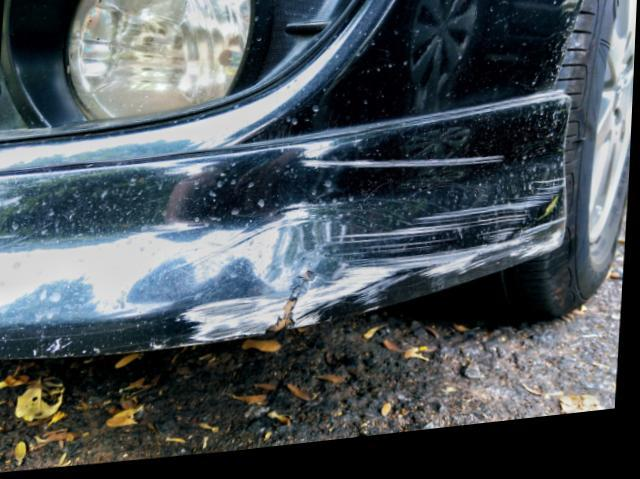crack: (274, 272, 317, 339)
scratch: (179, 186, 573, 349), (300, 162, 509, 178)
